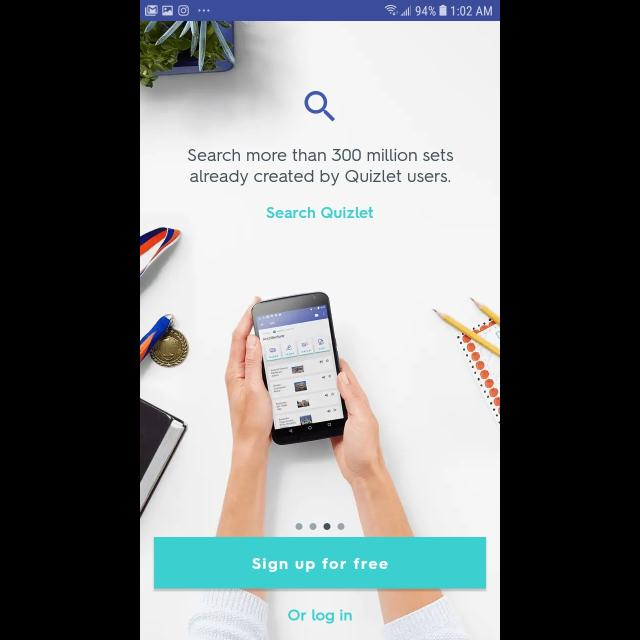backgroundimage: (140, 22, 500, 640)
icon: (304, 90, 336, 122)
pageindicator: (296, 522, 344, 530)
text: (188, 150, 454, 187), (266, 207, 374, 219), (288, 608, 352, 624)
textbutton: (154, 538, 486, 588)
uppertaskbar: (140, 1, 500, 22)
